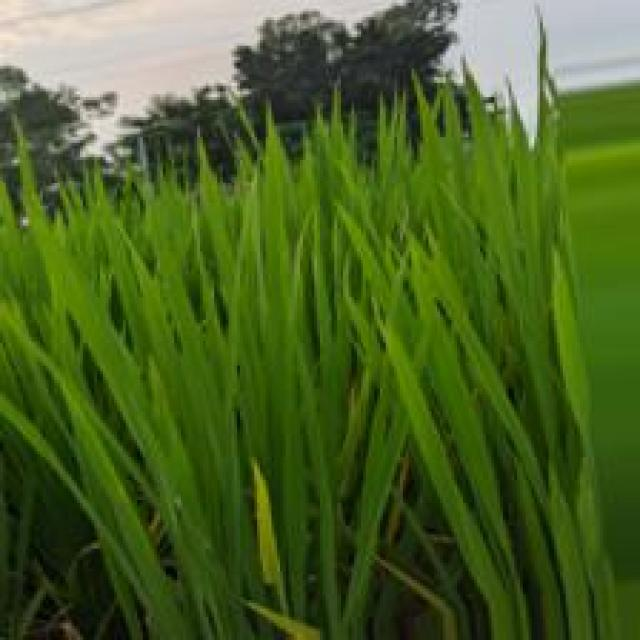HealthyLeaf: (368, 116, 622, 640), (29, 193, 254, 640)
